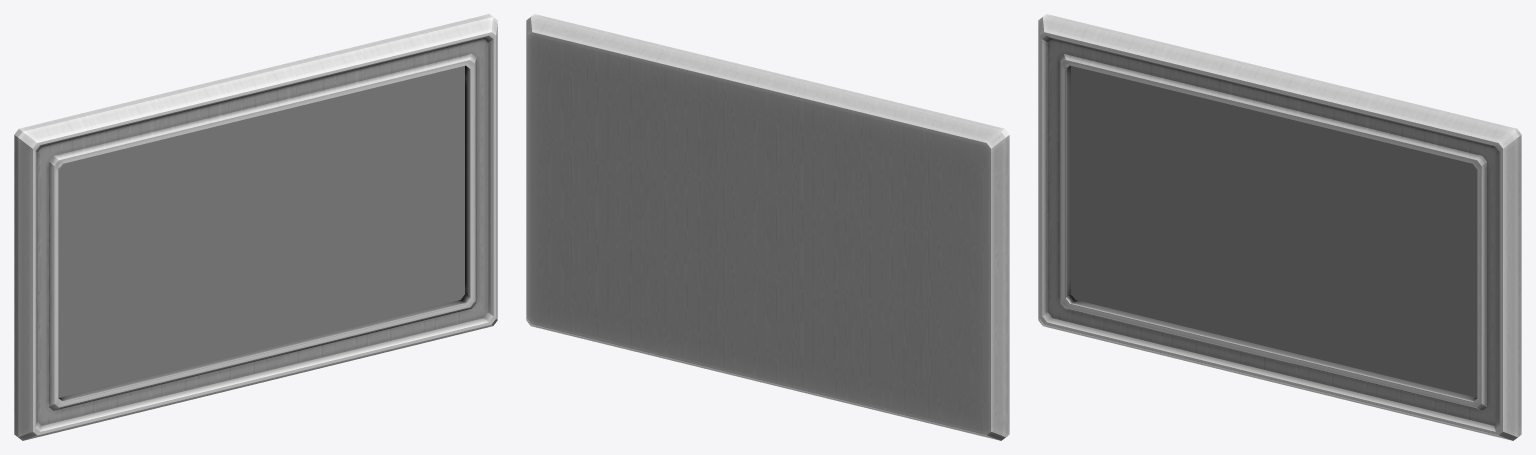
The model's file is Static_Frame_Landscape_Light.FBX.
The picture shows the model from 3 angles, left to right: view 1: azimuth 30°, elevation 25°; view 2: azimuth 150°, elevation 25°; view 3: azimuth 330°, elevation 25°; orthographic projection.
Parts seen in each view (by area): view 1: Object009, Object004; view 2: Object004; view 3: Object009, Object004.
Part boxes in pixels (box(x1,y1,x2,y2)): Object009: box(58, 66, 464, 397); Object004: box(14, 14, 497, 440); Object004: box(526, 14, 1009, 440); Object009: box(1071, 66, 1477, 397); Object004: box(1038, 14, 1521, 440).
Size of the model in its own units: 99.88 by 61.55 by 6.19.
Materials: 2 (1 with a texture image).
